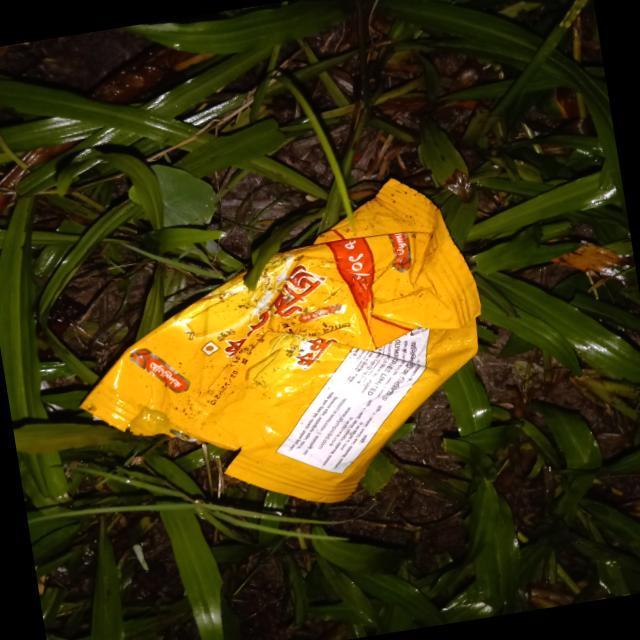packet: (146, 181, 475, 536)
